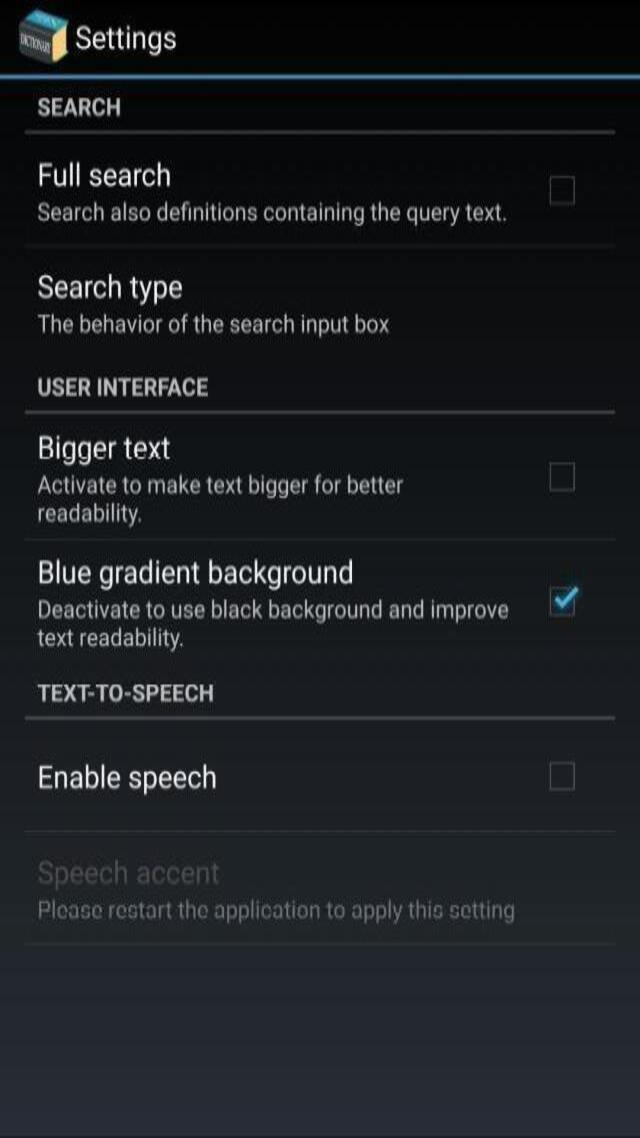CheckedTextView: (548, 581, 581, 624)
Image: (10, 7, 70, 66)
Text: (31, 196, 512, 232), (34, 896, 528, 924), (34, 596, 518, 624), (32, 553, 360, 589), (32, 470, 410, 499), (34, 312, 401, 341), (32, 754, 224, 800), (33, 858, 238, 891), (33, 676, 224, 710), (35, 272, 198, 308), (32, 157, 178, 194), (35, 374, 214, 404), (34, 432, 178, 466), (73, 20, 179, 61), (35, 626, 187, 654), (32, 501, 146, 529), (34, 93, 130, 124)
